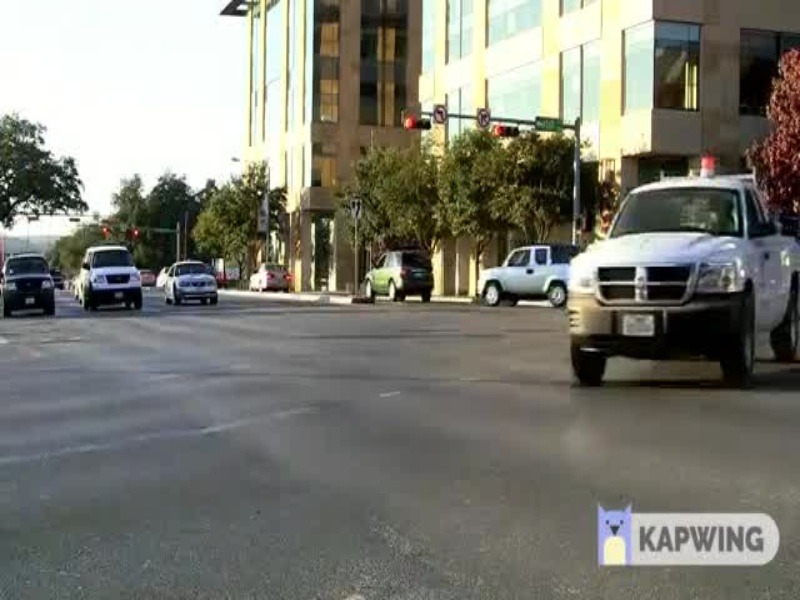car: (552, 154, 800, 389), (475, 237, 575, 313), (75, 243, 149, 318), (346, 247, 436, 306), (1, 249, 62, 319), (160, 253, 223, 312)
